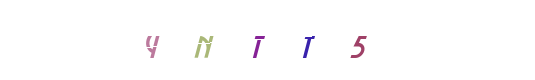5: (276, 0, 356, 80)
N: (166, 0, 246, 80)
T: (227, 0, 307, 80), (267, 0, 347, 80)
Y: (164, 0, 244, 80)
